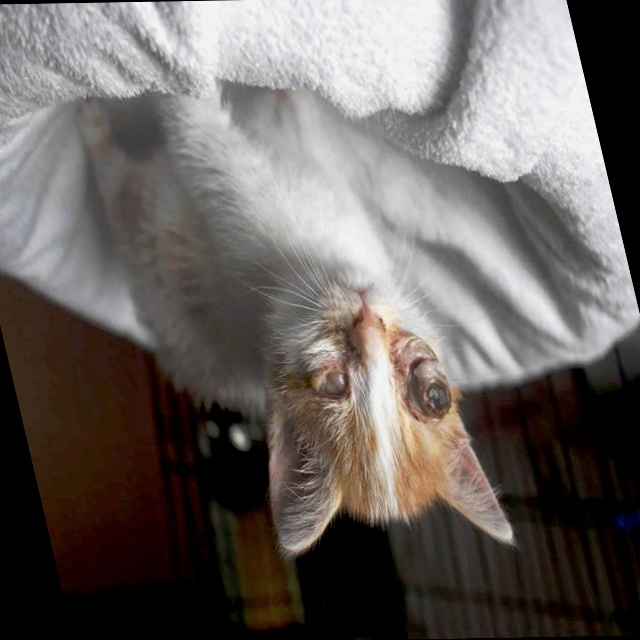eye_infection: (399, 366, 454, 412), (305, 360, 353, 400)
